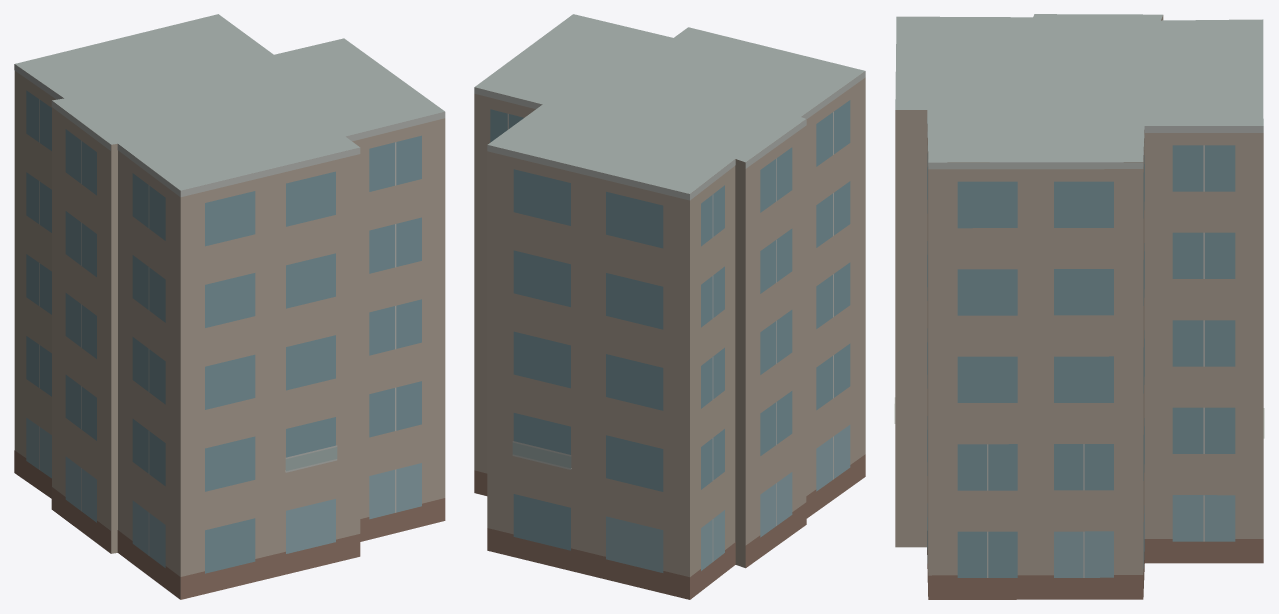
The model's file is survey-upis-32819882.glb.
The picture shows the model from 3 angles, left to right: view 1: azimuth 30°, elevation 25°; view 2: azimuth 150°, elevation 25°; view 3: azimuth 270°, elevation 25°; orthographic projection. The views are drawn at different scales.
Parts seen in each view (by area): view 1: survey-upis-32819882.tmp; view 2: survey-upis-32819882.tmp; view 3: survey-upis-32819882.tmp.
Part boxes in pixels (x1,y1,x2,y2): survey-upis-32819882.tmp: (14, 14, 445, 599); survey-upis-32819882.tmp: (474, 14, 865, 599); survey-upis-32819882.tmp: (894, 14, 1264, 599).
Bounding box in the file's own units: 11.11 × 15.25 × 11.71.
